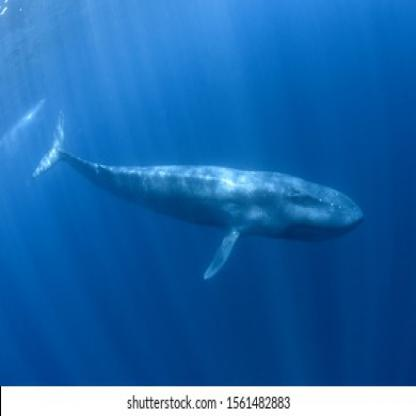blue_whale: (32, 119, 379, 322)
